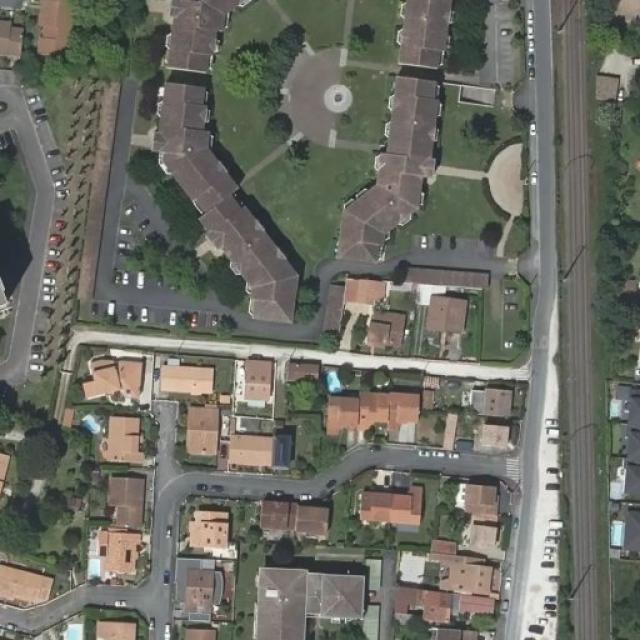immeuble: (143, 74, 313, 336), (327, 73, 445, 264), (386, 556, 508, 640), (248, 561, 370, 640), (599, 372, 640, 568), (152, 0, 239, 72), (324, 384, 424, 446), (456, 472, 524, 550), (393, 0, 461, 74), (168, 563, 240, 630), (255, 492, 342, 546), (354, 474, 434, 529), (181, 502, 240, 556)
maison: (75, 400, 150, 469), (81, 340, 156, 407), (81, 528, 150, 596), (93, 466, 153, 524), (148, 354, 221, 399), (220, 424, 286, 473), (230, 353, 280, 414), (179, 409, 225, 460), (280, 350, 320, 391)
piscine: (78, 537, 112, 590), (598, 511, 630, 557), (600, 461, 636, 500), (76, 405, 109, 439), (52, 614, 88, 640), (323, 363, 347, 399), (604, 391, 626, 422)
